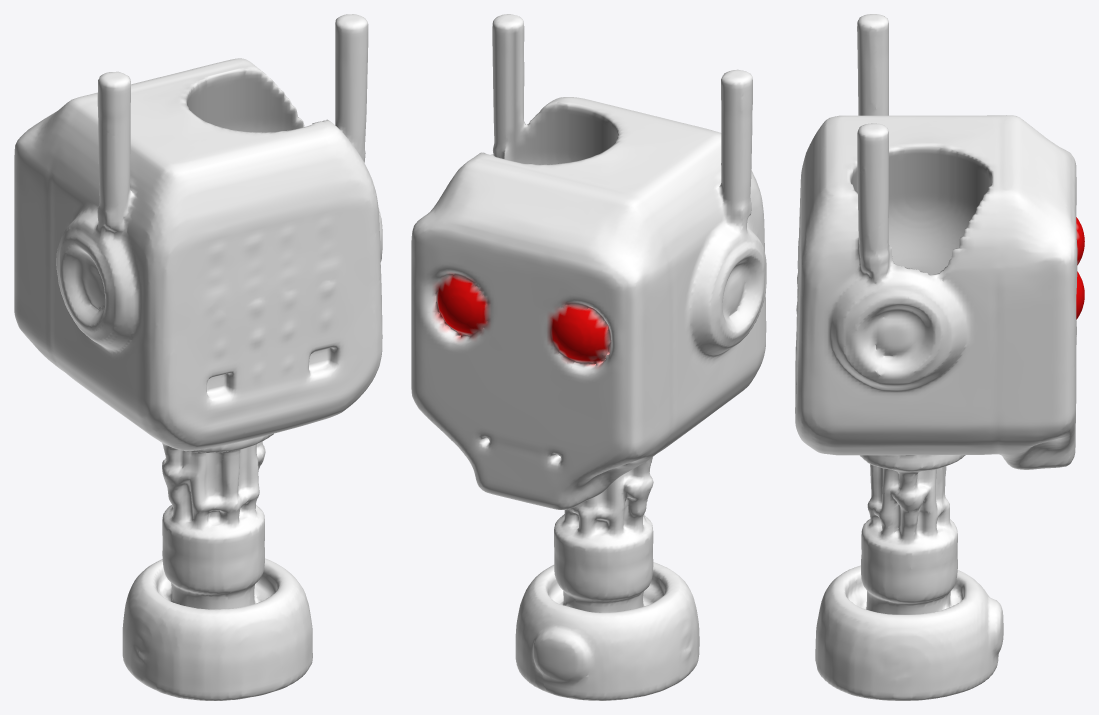
3 renders of one model, left to right at view 1: azimuth 30°, elevation 25°; view 2: azimuth 150°, elevation 25°; view 3: azimuth 270°, elevation 25°, orthographic. The views are drawn at different scales.
Parts seen in each view (by area): view 1: head; view 2: head; view 3: head.
Part boxes in pixels (bbox=[...]): head: bbox=[14, 14, 382, 700]; head: bbox=[411, 14, 766, 700]; head: bbox=[795, 14, 1084, 700].
Size of the model in its own units: 46.41 by 101 by 44.67.
Materials: 1 (1 with a texture image).
